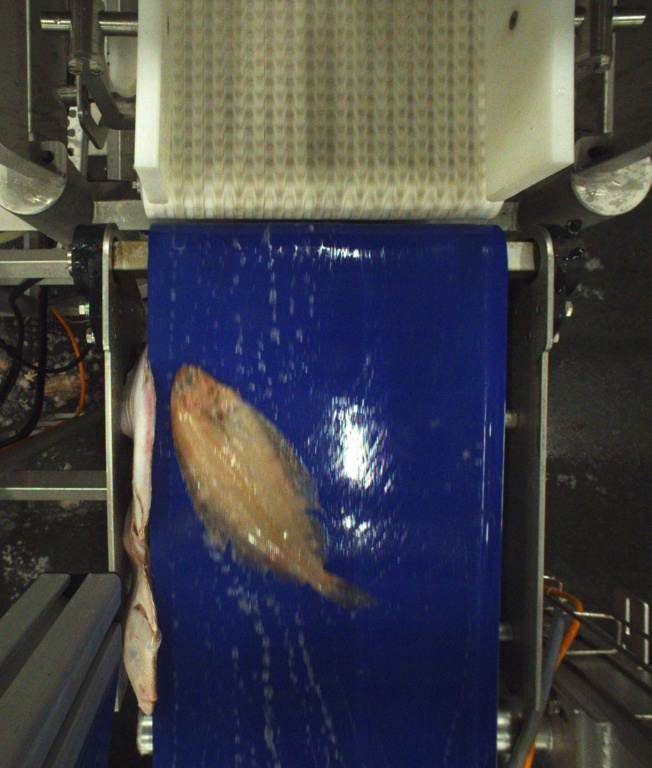WIT: (165, 359, 370, 614)
